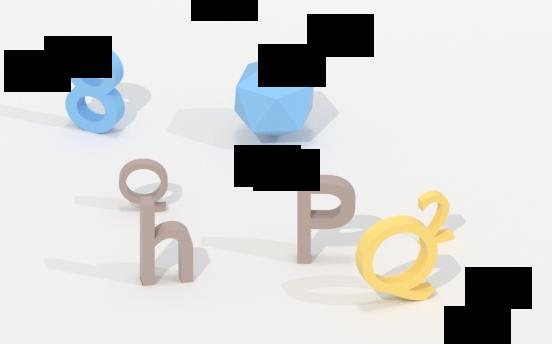2: (413, 186, 458, 246)
8: (65, 43, 128, 133)
dagiac: (230, 58, 319, 139)
h: (136, 194, 199, 292)
p: (293, 172, 355, 268)
q: (355, 214, 443, 304), (115, 156, 173, 213)
